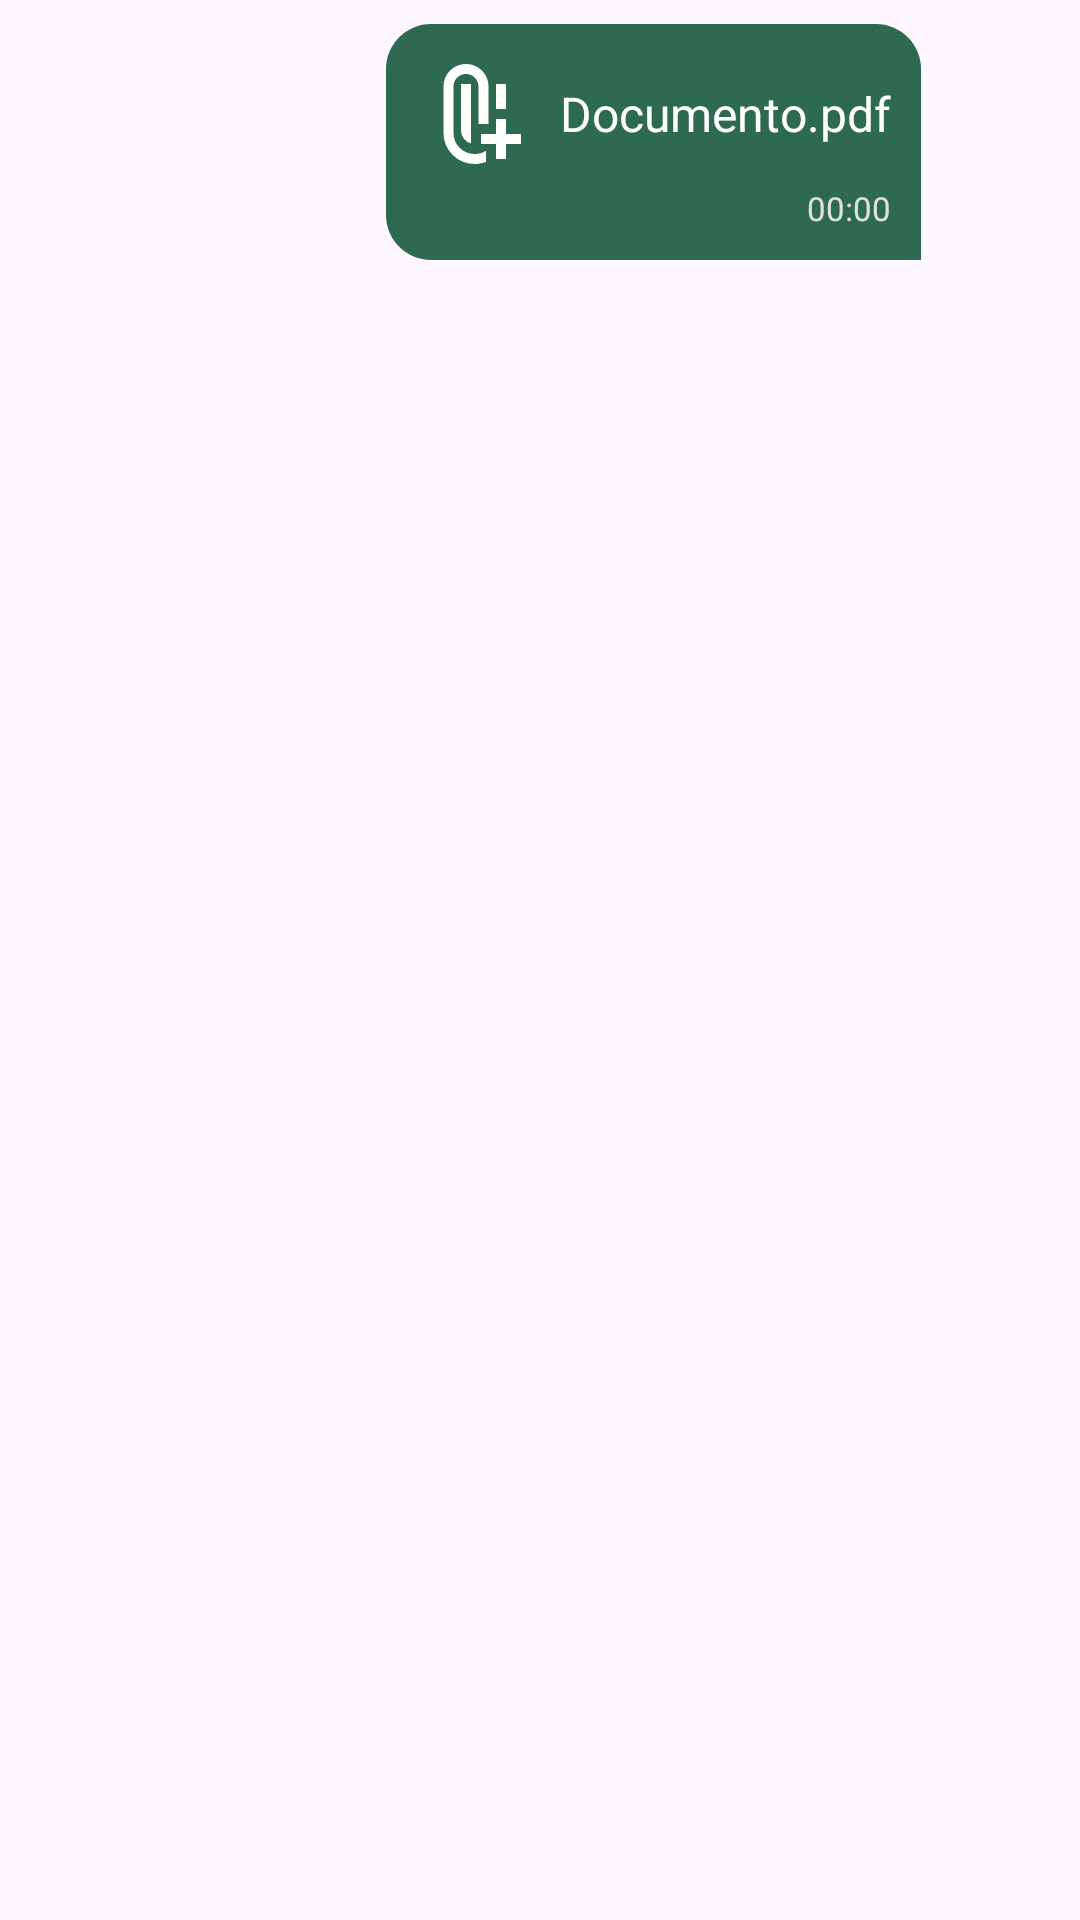

Named icons in this screenshot (1080px x 1920px) and their centers, point (x, y):
adddocument: point (482, 114)
